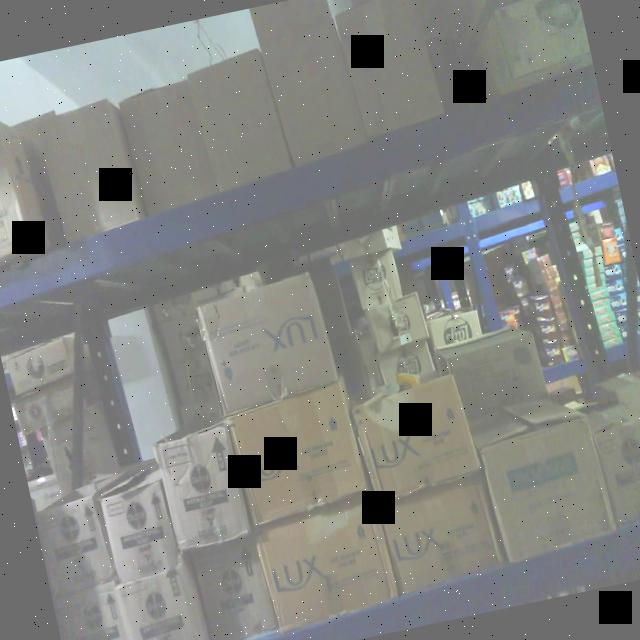box: (223, 385, 371, 525), (195, 272, 342, 412), (476, 416, 616, 558), (252, 502, 398, 625), (348, 376, 483, 502), (333, 0, 447, 136), (372, 478, 503, 594), (186, 55, 294, 192), (35, 100, 140, 240), (118, 84, 222, 214), (150, 424, 252, 554), (186, 538, 277, 640), (36, 497, 119, 599), (96, 484, 182, 580), (115, 568, 208, 640), (591, 412, 640, 525), (57, 589, 133, 640)
